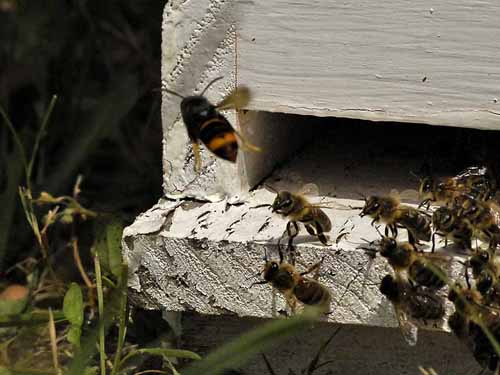bee: (453, 251, 500, 373), (256, 256, 335, 314), (258, 186, 343, 239), (371, 263, 449, 318), (358, 188, 435, 242), (373, 230, 443, 286), (418, 171, 492, 205), (424, 201, 480, 245)
hornet: (167, 88, 269, 165)
